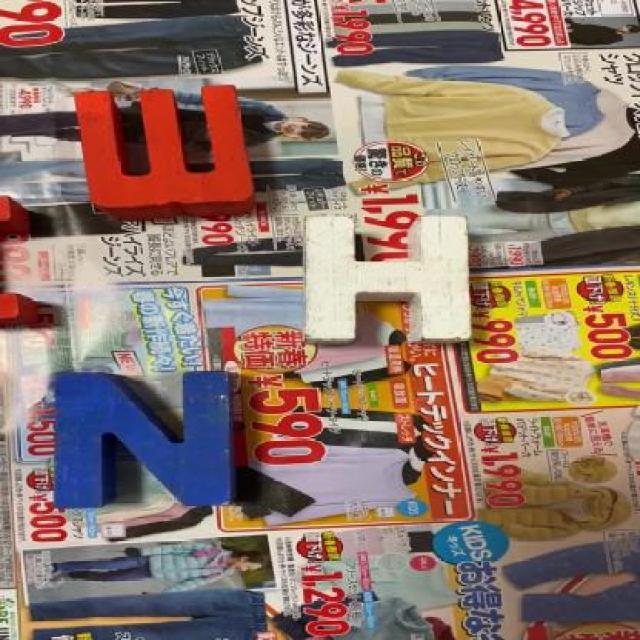H: (307, 215, 475, 343)
N: (55, 373, 238, 504)
W: (75, 88, 252, 214)
